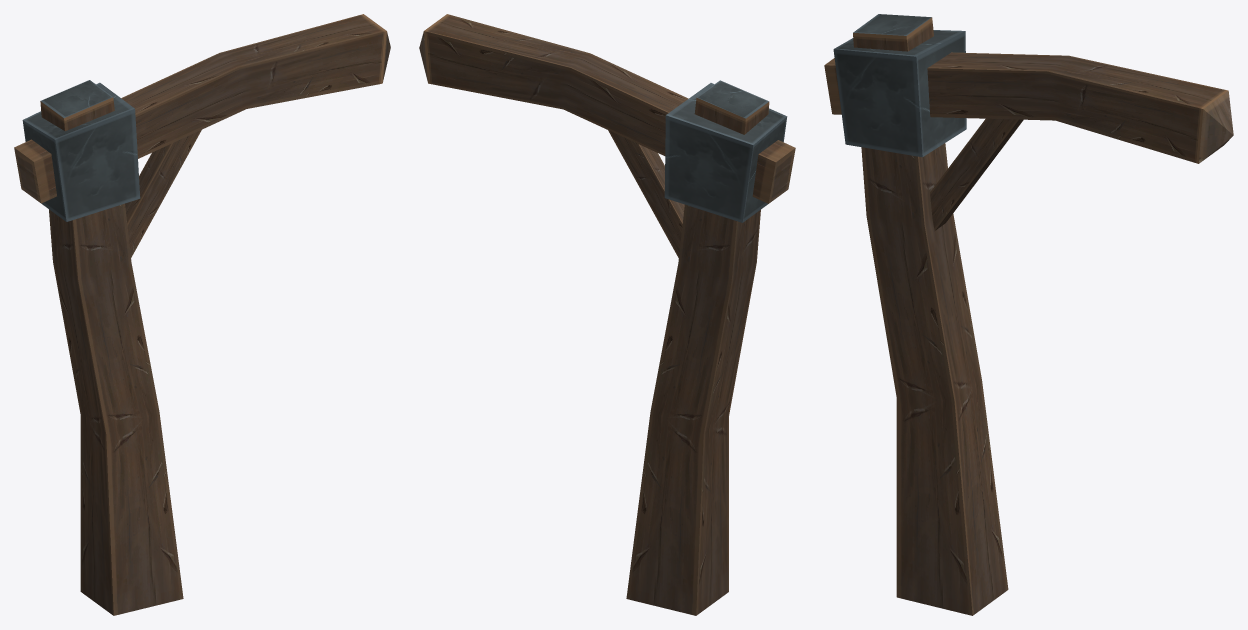
File: Town004_LD_01.FBX
3 renders of one model, left to right at view 1: azimuth 30°, elevation 25°; view 2: azimuth 150°, elevation 25°; view 3: azimuth 330°, elevation 25°, orthographic. The views are drawn at different scales.
Parts seen in each view (by area): view 1: Box02; view 2: Box02; view 3: Box02.
Boxes of the visible parts, x1,y1,x2,y2 form: Box02: (14, 14, 390, 615); Box02: (419, 14, 795, 615); Box02: (824, 14, 1233, 615).
Size of the model in its own units: 384 by 514 by 72.77.
1 material, 1 textured.
